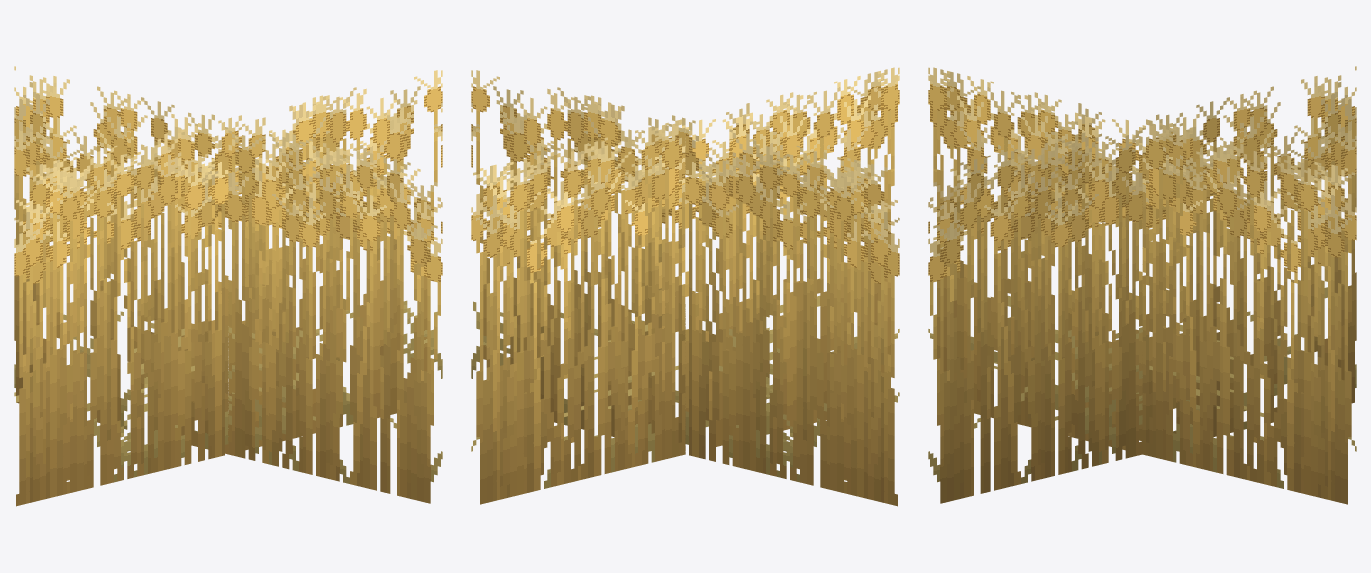
The model's file is psenice_trs_zrala.glb.
3 views of the same model, side by side, from view 1: azimuth 30°, elevation 25°; view 2: azimuth 150°, elevation 25°; view 3: azimuth 270°, elevation 25° (orthographic).
Parts seen in each view (by area): view 1: psenice_trs_zrala; view 2: psenice_trs_zrala; view 3: psenice_trs_zrala.
Part boxes in pixels (bbox=[...]): psenice_trs_zrala: bbox=[14, 66, 442, 506]; psenice_trs_zrala: bbox=[471, 67, 899, 506]; psenice_trs_zrala: bbox=[928, 66, 1356, 504].
Size of the model in its own units: 1.6 by 1.2 by 1.39.
1 material, 1 textured.
